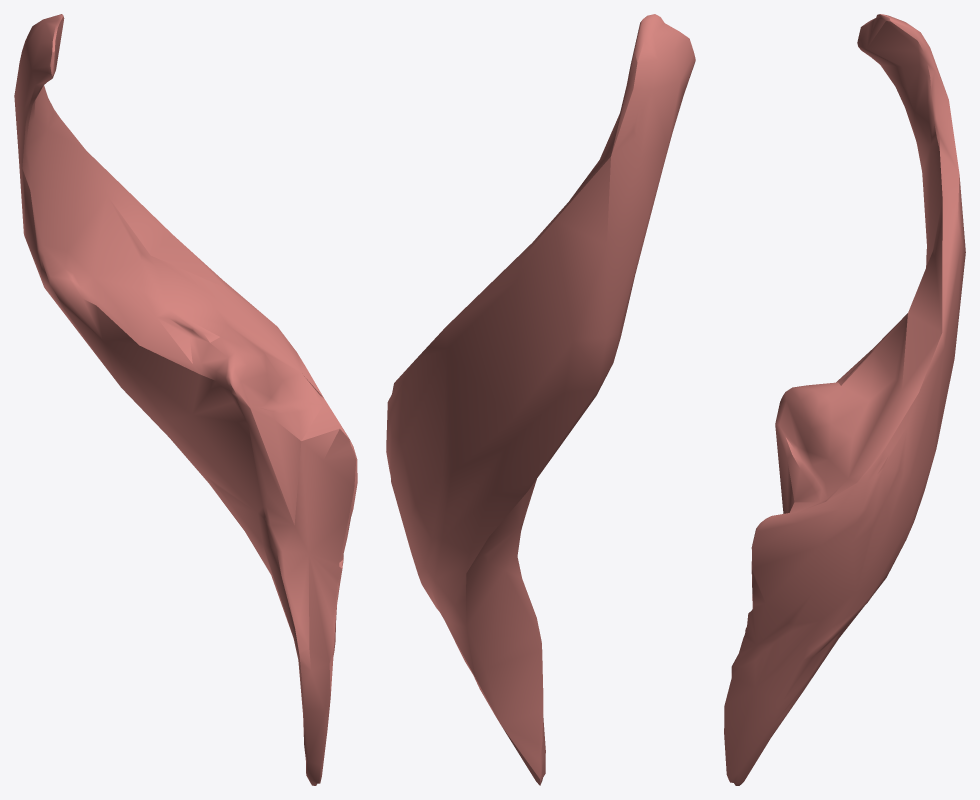
Rendered from fma22591_fj1430.glb.
The picture shows the model from 3 angles, left to right: view 1: azimuth 30°, elevation 25°; view 2: azimuth 150°, elevation 25°; view 3: azimuth 270°, elevation 25°; orthographic projection. The views are drawn at different scales.
Visible parts, largest first — view 1: FMA22591_FJ1430; view 2: FMA22591_FJ1430; view 3: FMA22591_FJ1430.
Boxes of the visible parts, x1=… form: FMA22591_FJ1430: x1=14, y1=14, x2=357, y2=785; FMA22591_FJ1430: x1=386, y1=14, x2=695, y2=785; FMA22591_FJ1430: x1=724, y1=14, x2=965, y2=785.
Bounding box in the file's own units: 0.0529 × 0.1447 × 0.0457.
